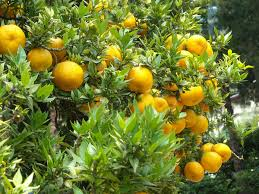orange: (51, 59, 84, 92), (123, 63, 154, 93), (26, 46, 51, 74), (178, 84, 205, 106), (131, 94, 155, 116), (202, 152, 225, 173), (183, 161, 205, 182), (213, 141, 234, 162), (188, 34, 208, 56)
